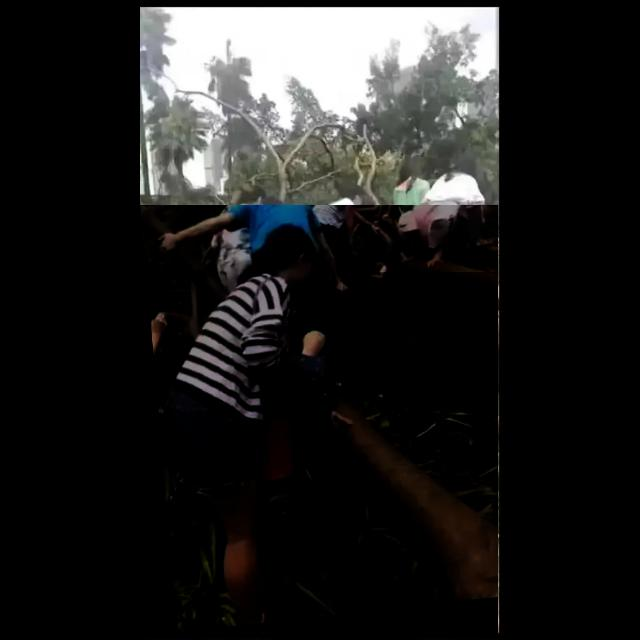Fallen Tree: (139, 205, 499, 639), (343, 272, 499, 402)
